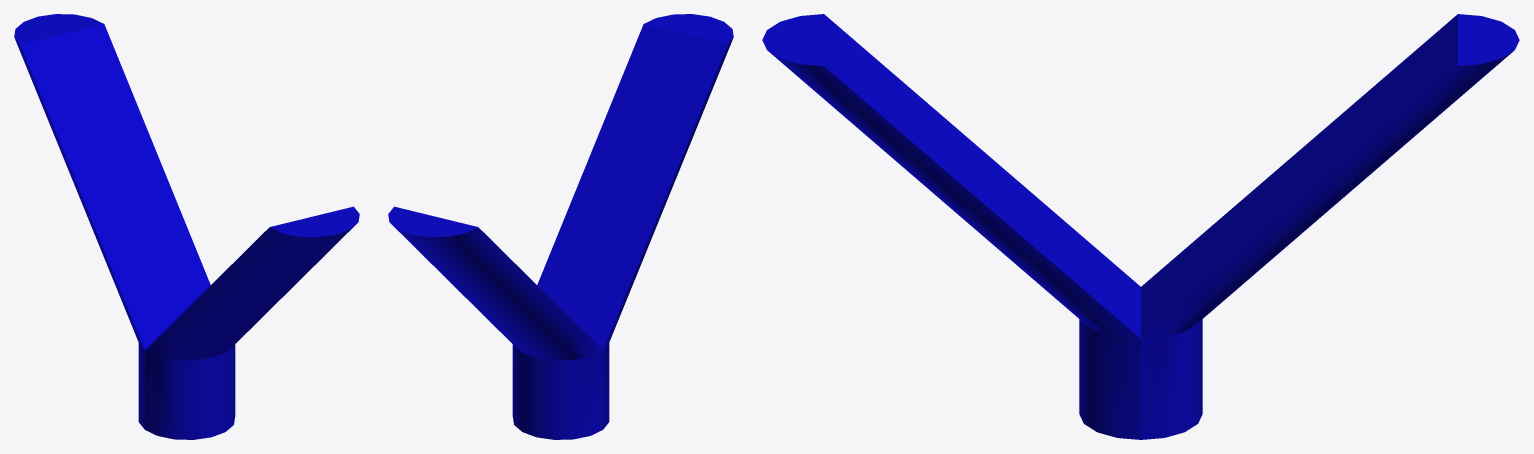
Rendered from plot-head.obj.
3 renders of one model, left to right at view 1: azimuth 30°, elevation 25°; view 2: azimuth 150°, elevation 25°; view 3: azimuth 270°, elevation 25°, orthographic. The views are drawn at different scales.
Parts seen in each view (by area): view 1: tetepoteau; view 2: tetepoteau; view 3: tetepoteau.
Part boxes in pixels (x1=…): tetepoteau: x1=14, y1=14, x2=359, y2=439; tetepoteau: x1=388, y1=14, x2=733, y2=439; tetepoteau: x1=762, y1=14, x2=1519, y2=439.
Bounding box in the file's own units: 0.36 × 1.2 × 2.21.
